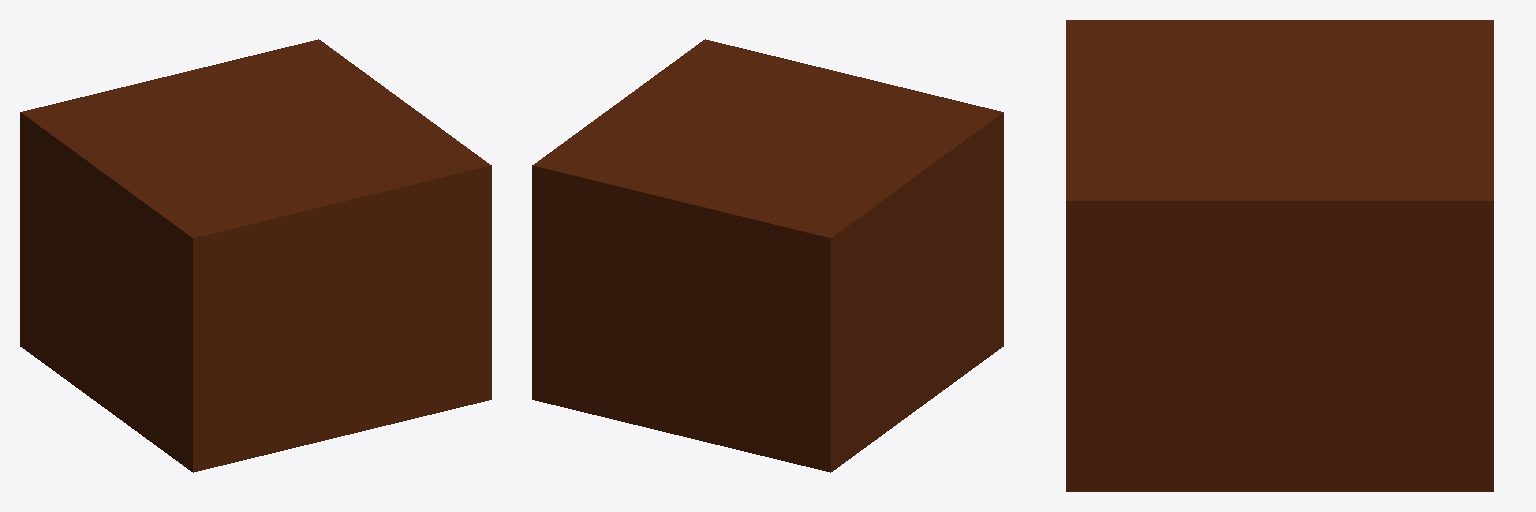
The robot description file, URDF, robot "box":
<robot name="box">
  <material name="obj_mat">
    <color rgba="0.4 0.2 0.1 1.0"/>
  </material>

  <link name="box_link">
    <contact>
      <lateral_friction value="0.8"/>
      <rolling_friction value="0.001"/>
      <contact_cfm value="0.0"/>
      <contact_erp value="1.0"/>
      <restitution value="0"/>
    </contact>
    <inertial>
      <origin rpy="0 0 0" xyz="0 0 0"/>
       <mass value="0.1"/>
       <inertia ixx="1" ixy="0" ixz="0" iyy="1" iyz="0" izz="1"/>
    </inertial>
    <visual>
      <origin rpy="0 0 0" xyz="0 0 0"/>
      <geometry>
        <box size="0.08 0.08 0.06"/>
      </geometry>
      <material name="obj_mat"/>
    </visual>
    <collision>
      <origin rpy="0 0 0" xyz="0 0 0"/>
      <geometry>
        <box size="0.08 0.08 0.06"/>
      </geometry>
    </collision>
  </link>
</robot>

--- What the picture shows (computed from the rendered views, not written in the file) ---
3 views of the same robot in one strip: view 1: azimuth 30°, elevation 25°; view 2: azimuth 150°, elevation 25°; view 3: azimuth 270°, elevation 25° (orthographic).
Model box with 1 links and 0 joints (none), rooted at box_link, posed all joints at 0.
Visible links, largest first — view 1: box_link; view 2: box_link; view 3: box_link.
Link boxes in pixels (x1,y1,x2,y2): box_link: (20, 39, 491, 472); box_link: (532, 39, 1003, 472); box_link: (1066, 20, 1493, 491).
Bounding box of the posed robot: 0.08 × 0.08 × 0.06 m (x, y, z).
Geometry: primitives only (box / cylinder / sphere), no mesh files.